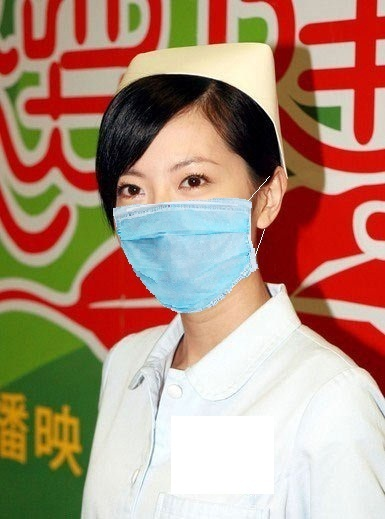face_mask: (114, 101, 247, 313)
